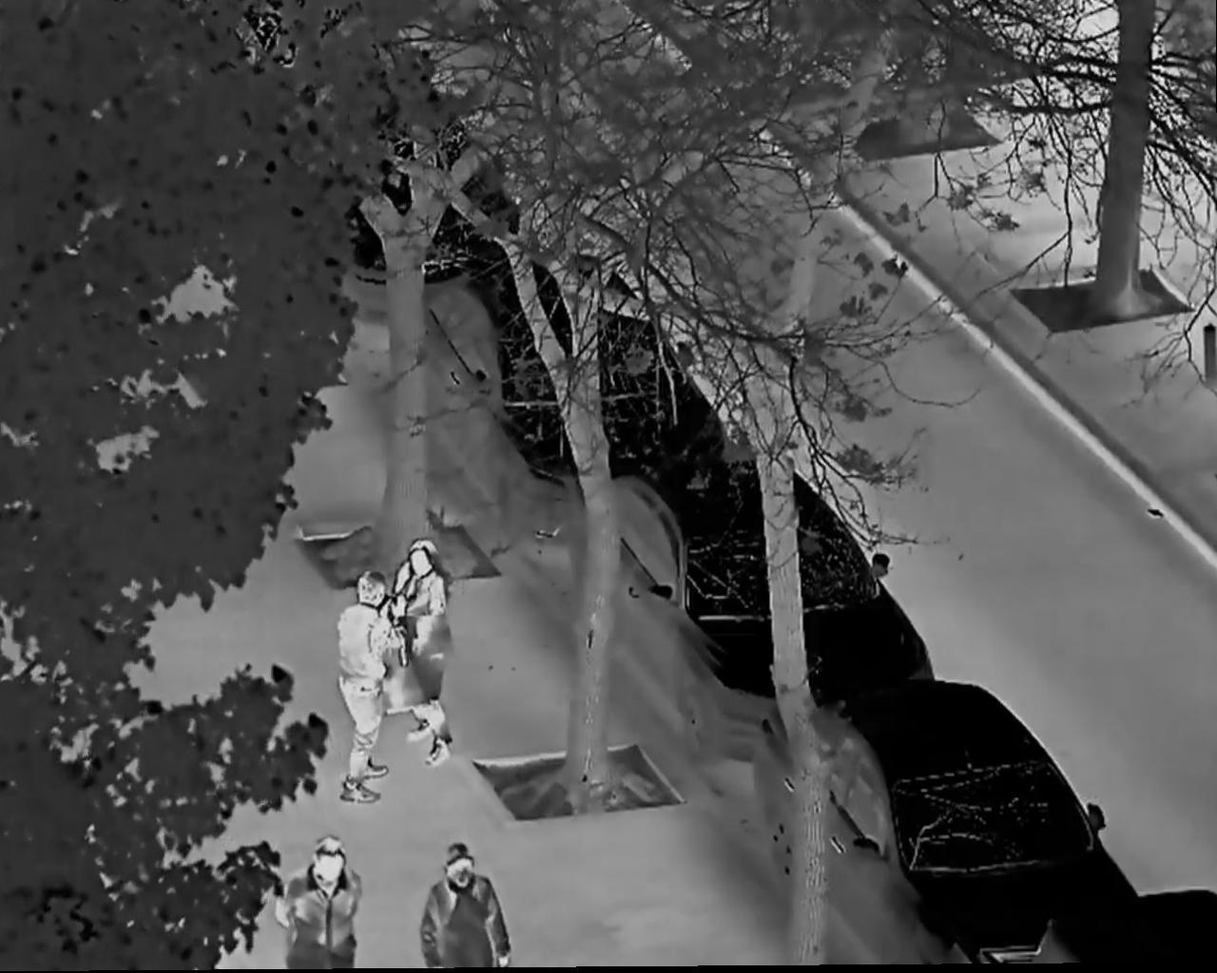person: (332, 572, 402, 810), (393, 539, 459, 766), (412, 843, 518, 973), (272, 836, 363, 973)
